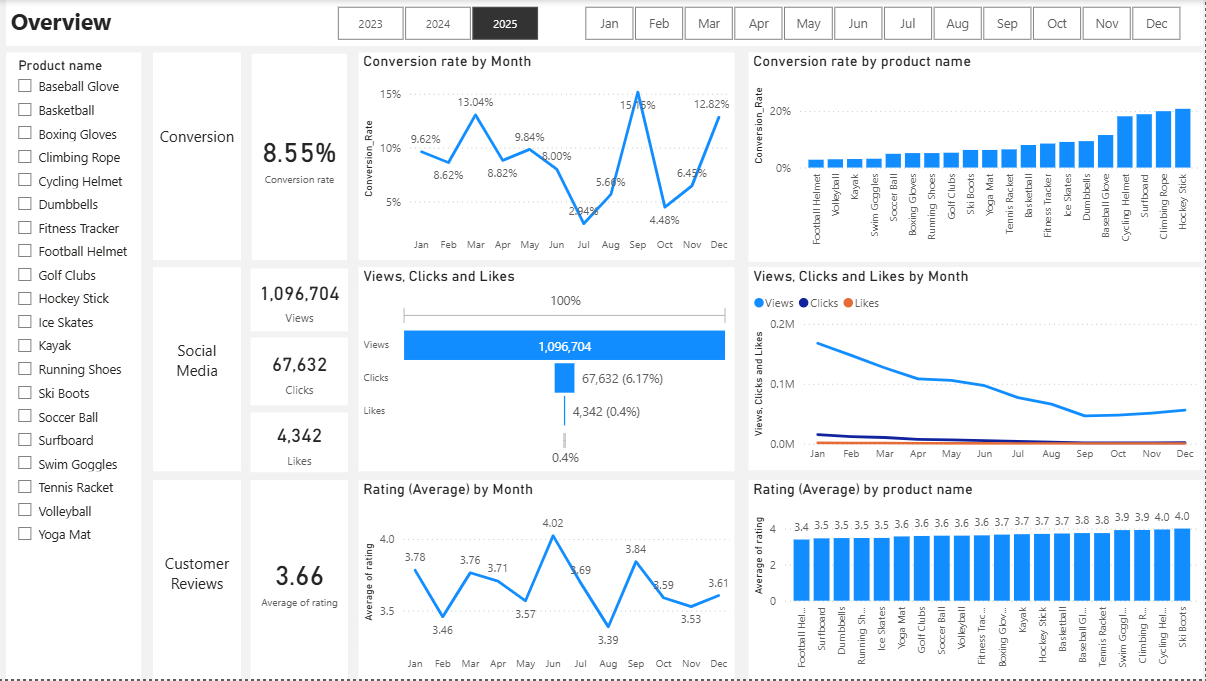

The page's visual inventory and layout, read from the dashboard file:
{"tool":"powerbi","page":{"name":"Overview","canvas":[1280,720],"ordinal":0},"visuals":[{"type":"textbox","box":[10.1,0,1269.4,48.8],"z":0},{"type":"slicer","fields":{"Values":["dim_products.ProductName"]},"box":[10,55,143.3,665],"z":1000},{"type":"textbox","box":[165,55,93.3,220],"z":2000},{"type":"textbox","box":[165,283.3,93.3,216.7],"z":3000},{"type":"textbox","box":[165,508.3,93.3,211.7],"z":4000},{"type":"card","fields":{"Values":["Measure.Conversion_Rate"]},"box":[268.3,55,103.3,221.7],"z":5000},{"type":"card","fields":{"Values":["Measure.Views"]},"box":[268.3,285,103.3,66.7],"z":6000},{"type":"card","fields":{"Values":["Measure.Clicks"]},"box":[268.3,358.3,103.3,71.7],"z":7000},{"type":"card","fields":{"Values":["Measure.Likes"]},"box":[268.3,436.7,103.3,63.3],"z":8000},{"type":"card","fields":{"Values":["Measure.Average of rating"]},"box":[268.3,508.3,103.3,211.7],"z":9000},{"type":"slicer","fields":{"Values":["Calendar.Year"]},"box":[336.3,0,262.3,48.8],"z":10000},{"type":"slicer","fields":{"Values":["Calendar.MonthNameShort"]},"box":[598.5,0,680.9,48.8],"z":11000},{"type":"lineChart","title":"Conversion rate by Month","fields":{"Y":["Measure.Conversion_Rate"],"Category":["Calendar.MonthNameShort"]},"box":[383.3,55,398.3,220],"z":12000},{"type":"columnChart","title":"Conversion rate by product name","fields":{"Category":["dim_products.ProductName"],"Y":["Measure.Conversion_Rate"]},"box":[796.7,55,481.7,221.7],"z":13000},{"type":"lineChart","title":"Views, Clicks and Likes by Month","fields":{"Y":["Measure.Views","Measure.Clicks","Measure.Likes"],"Category":["Calendar.MonthNameShort"]},"box":[796.7,283.3,481.7,215],"z":14000},{"type":"funnel","fields":{"Y":["Measure.Views","Measure.Clicks","Measure.Likes"]},"box":[383.3,283.3,398.3,216.7],"z":15000},{"type":"lineChart","title":"Rating (Average) by Month","fields":{"Y":["Measure.Average of rating"],"Category":["Calendar.MonthNameShort"]},"box":[383.3,508.3,398.3,211.7],"z":16000},{"type":"columnChart","title":"Rating (Average) by product name","fields":{"Category":["dim_products.ProductName"],"Y":["Measure.Average of rating"]},"box":[796.7,508.3,481.7,211.7],"z":17000}]}

Visuals, with their boxes in screenshot pixels (x1, y1, x2, y2), scaled from the page's 1280x720 canvas onto the 1206x681 screenshot:
textbox: <box>10,0,1205,46</box>
slicer - dim_products.ProductName: <box>9,52,144,680</box>
textbox: <box>155,52,243,260</box>
textbox: <box>155,268,243,473</box>
textbox: <box>155,481,243,680</box>
card - Measure.Conversion_Rate: <box>253,52,350,262</box>
card - Measure.Views: <box>253,270,350,333</box>
card - Measure.Clicks: <box>253,339,350,407</box>
card - Measure.Likes: <box>253,413,350,473</box>
card - Measure.Average of rating: <box>253,481,350,680</box>
slicer - Calendar.Year: <box>317,0,564,46</box>
slicer - Calendar.MonthNameShort: <box>564,0,1205,46</box>
"Conversion rate by Month" lineChart: <box>361,52,736,260</box>
"Conversion rate by product name" columnChart: <box>751,52,1204,262</box>
"Views, Clicks and Likes by Month" lineChart: <box>751,268,1204,471</box>
funnel - Measure.Views x Measure.Clicks: <box>361,268,736,473</box>
"Rating (Average) by Month" lineChart: <box>361,481,736,680</box>
"Rating (Average) by product name" columnChart: <box>751,481,1204,680</box>
